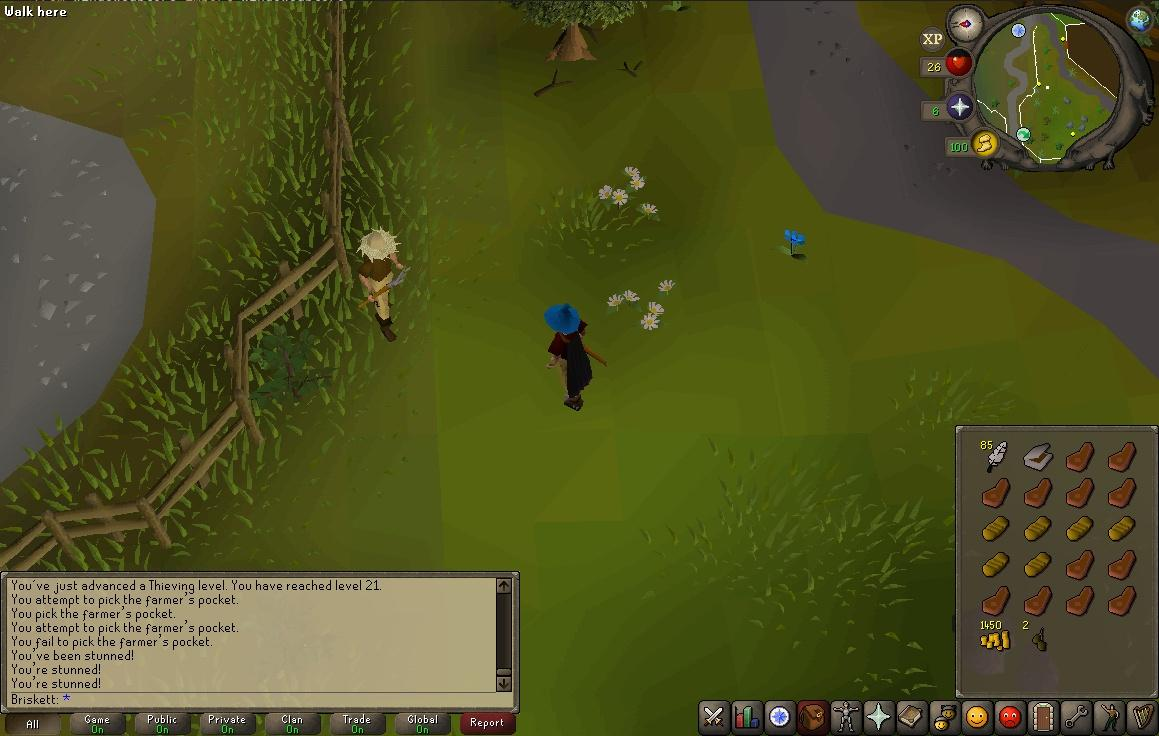Farmer: (356, 229, 410, 343)
